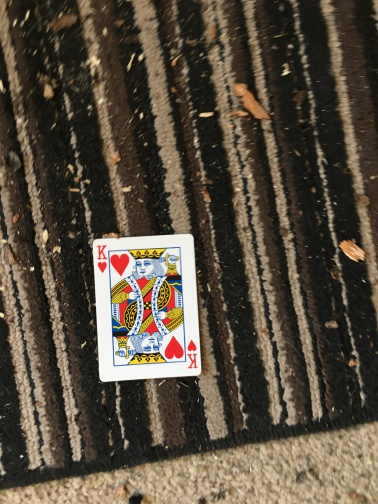king: (89, 232, 204, 383)
